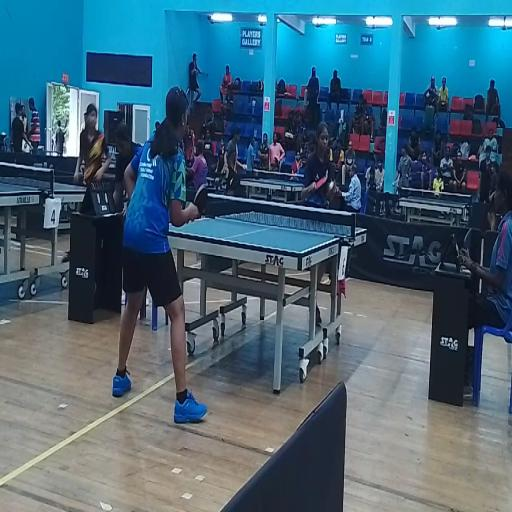ball: (330, 182, 334, 190)
